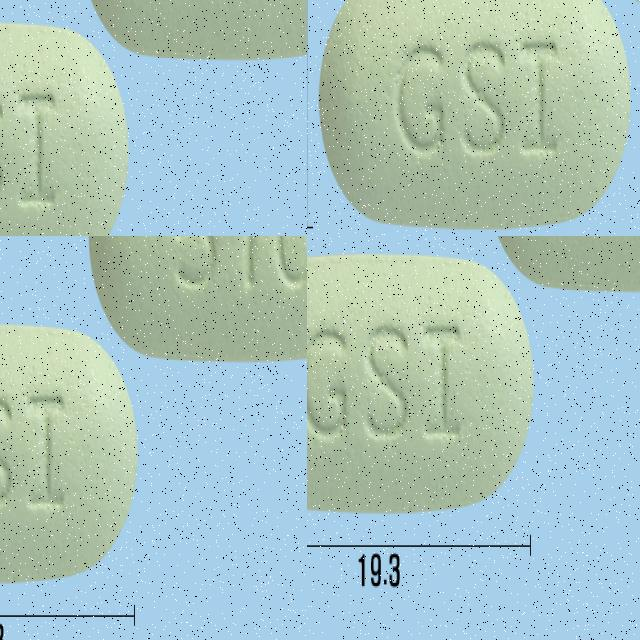Genvoya: (307, 252, 535, 516)
Levogun - 500mg: (109, 236, 307, 582), (0, 236, 69, 585)
Pilocin Tab: (390, 49, 640, 236)
Taiguk Ciprofloxacin HCl Tab: (0, 114, 120, 236)
